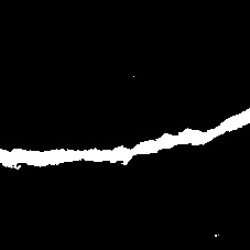crack: (0, 109, 248, 168)
